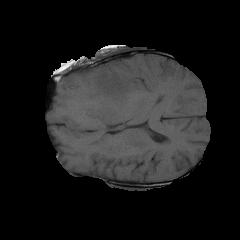glioma: (67, 66, 131, 124)
